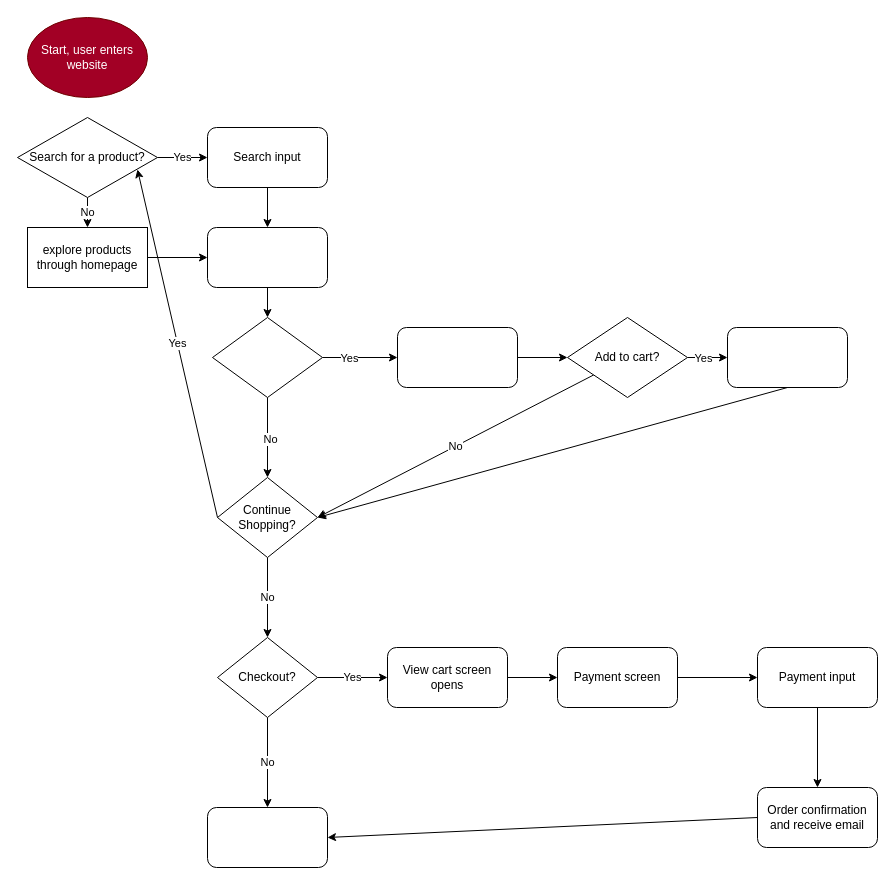
The diagram is 895 pixels wide and 885 high, and some of its shapes have lost their labels. The centre of each missing label's shape, as x and y in pixels:
Browse products: the point at 267,257
Item added to cart: the point at 787,357
Leave website: the point at 267,837
Product page opens: the point at 457,357
View product?: the point at 267,357
